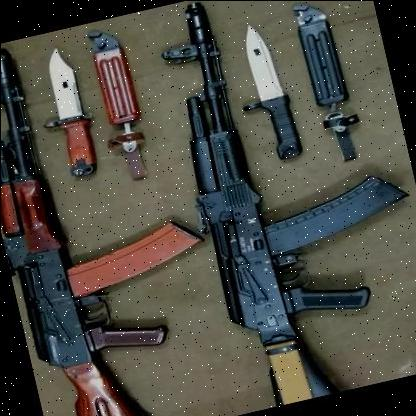rifle: (144, 0, 416, 415), (0, 35, 228, 416)
